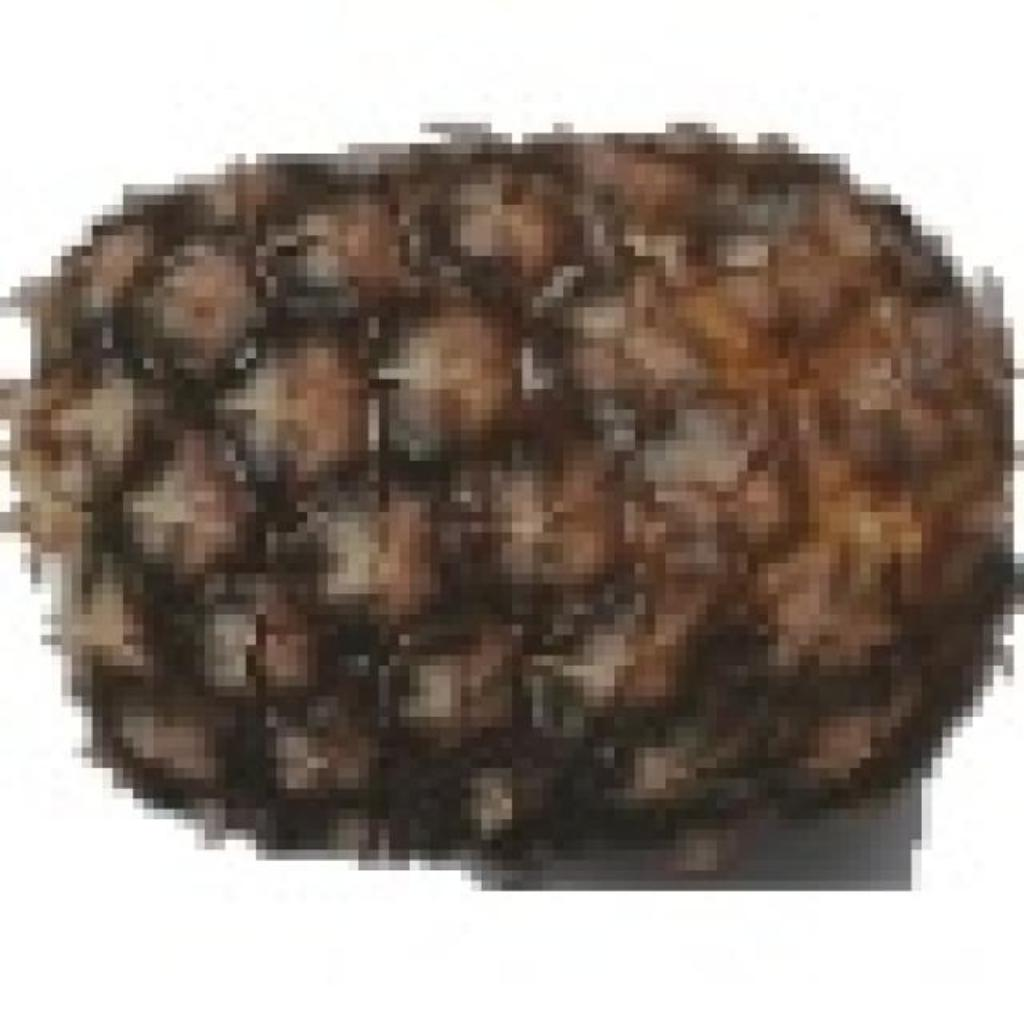pineapple: (10, 113, 993, 840)
